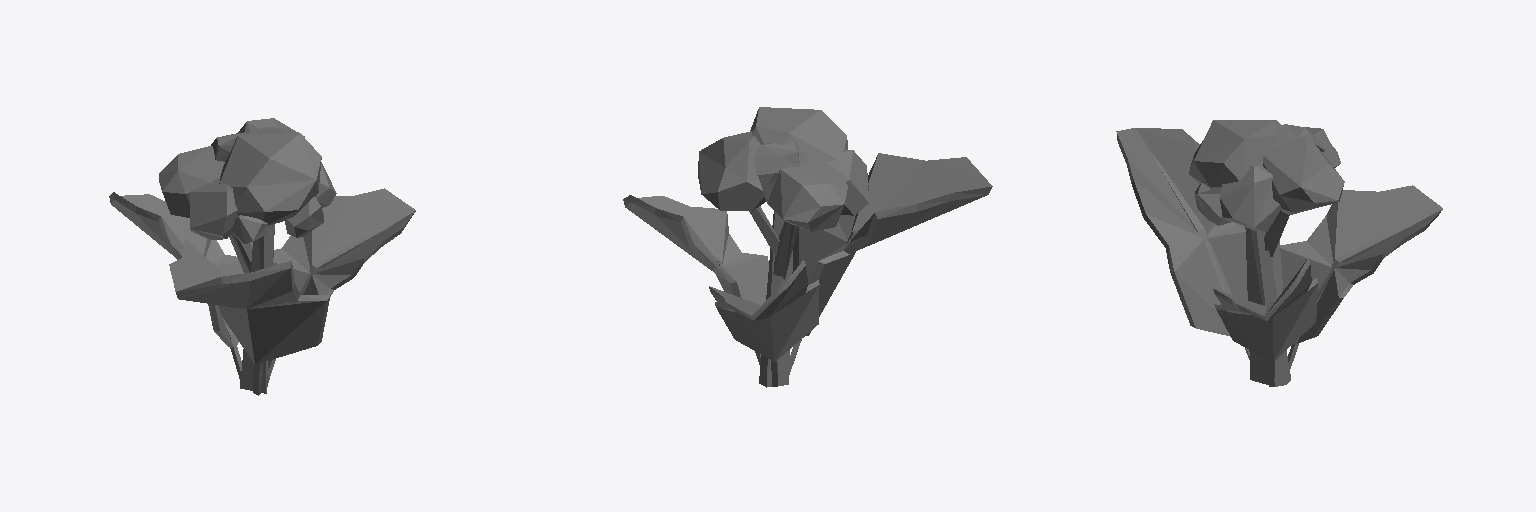
Rendered from brokoly.obj.
The picture shows the model from 3 angles: view 1: azimuth 30°, elevation 25°; view 2: azimuth 150°, elevation 25°; view 3: azimuth 270°, elevation 25°; orthographic projection.
Size of the model in its own units: 0.9472 by 0.7692 by 0.8786.